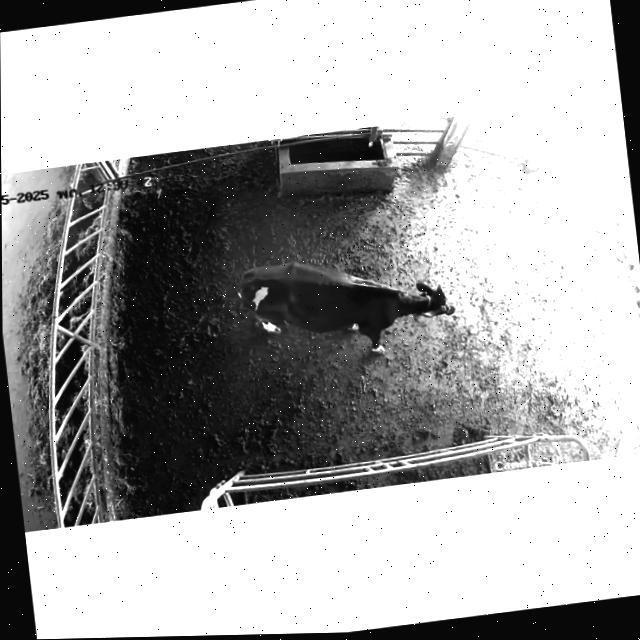stand: (198, 223, 466, 390)
